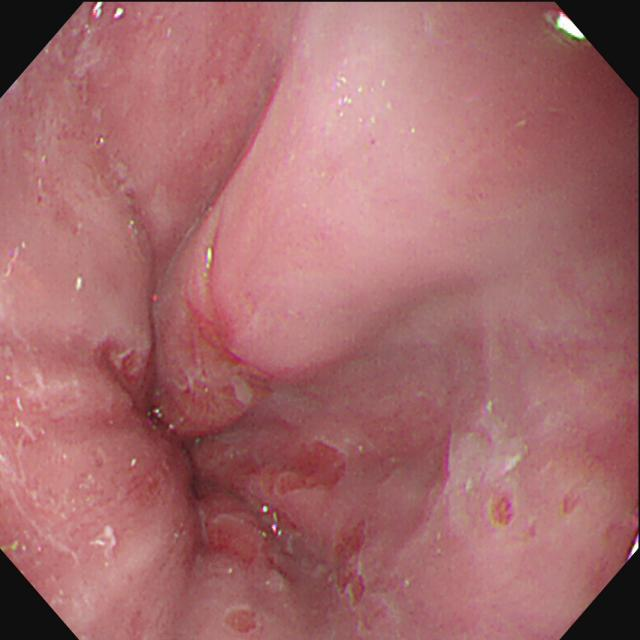D: (290, 437, 353, 492), (334, 519, 370, 604), (492, 492, 520, 530)
I: (98, 295, 274, 597)
J: (448, 409, 529, 480)
U: (542, 7, 591, 49), (257, 504, 284, 541), (91, 2, 130, 24), (203, 246, 218, 272)
